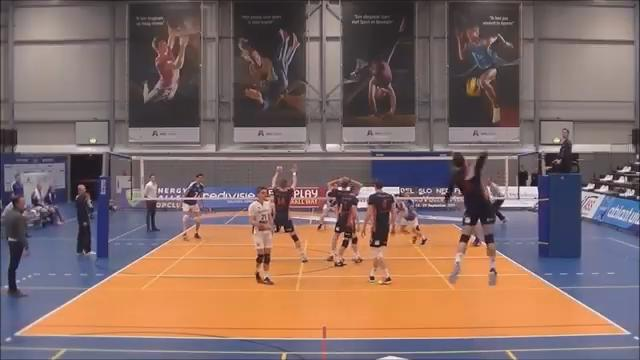Player: (361, 183, 395, 284), (272, 165, 307, 262), (248, 187, 273, 284), (332, 191, 362, 266), (182, 174, 203, 240), (327, 177, 361, 216), (398, 199, 426, 244), (317, 178, 338, 229), (488, 179, 506, 223), (488, 179, 506, 222), (394, 201, 408, 233)
Serve: (440, 143, 499, 286)
ball: (465, 79, 481, 98)
